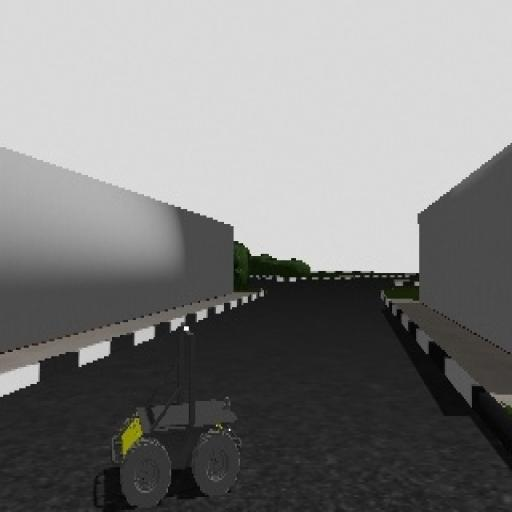huskya200: (96, 319, 280, 512)
